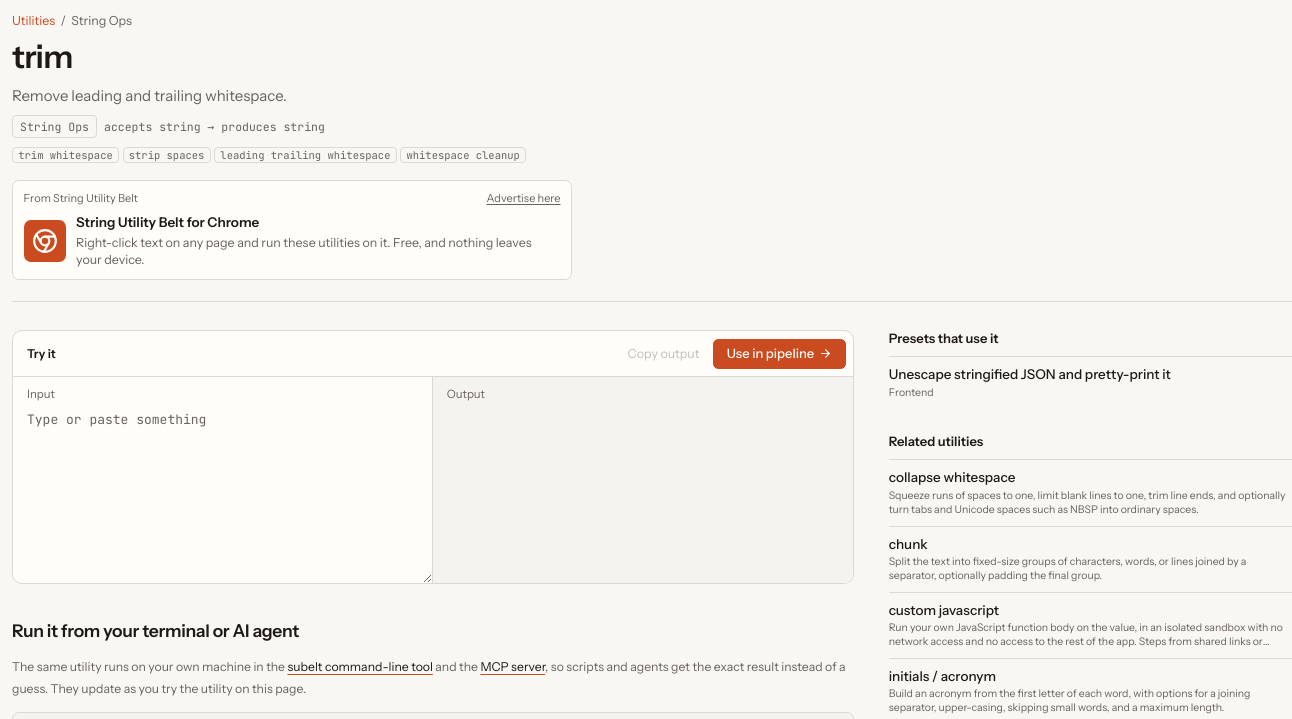
Test: UtilityDocPage › runs the playground and shows output as the input changes
Type "  padded  " into the text box named "playground input" at (222,493), box [13,403,432,583]
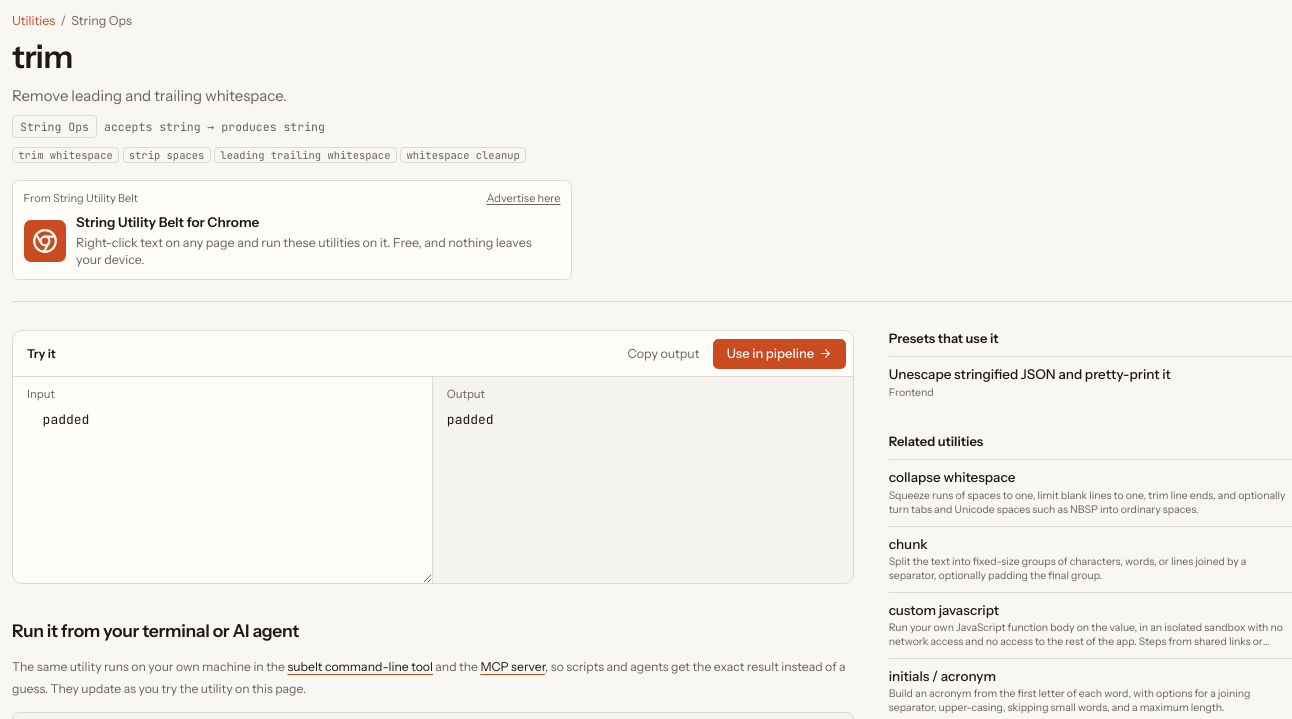
Now the message named "playground output" reads "padded", box [447,410,494,428]
